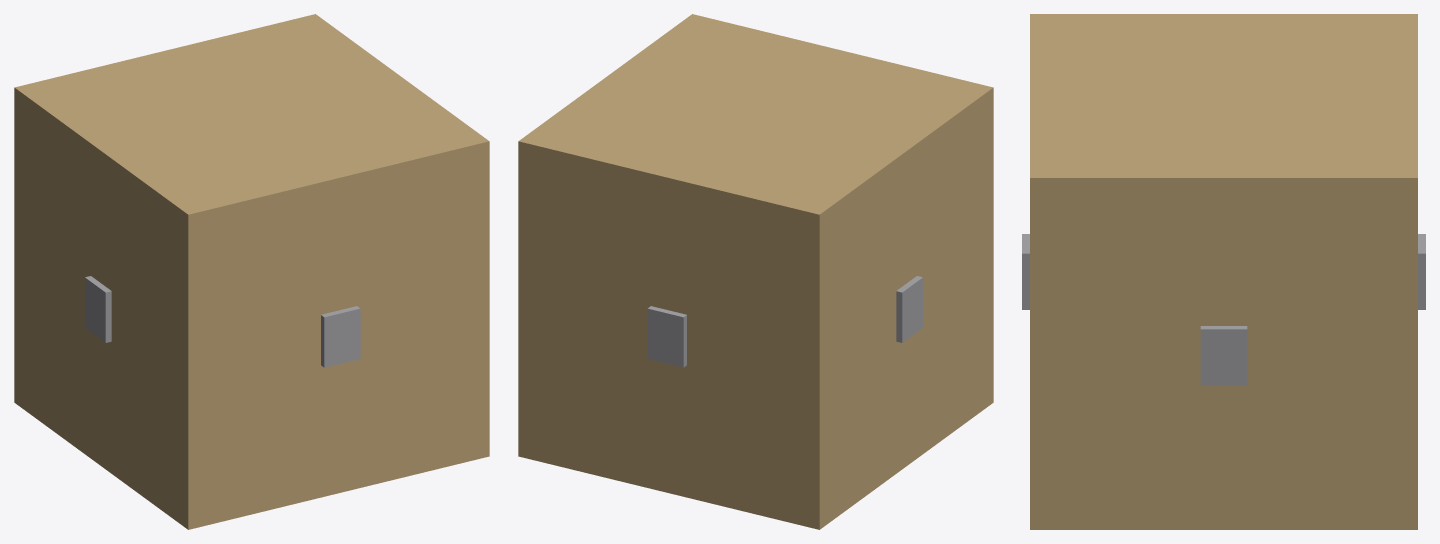
File: prop_crate.glb
The picture shows the model from 3 angles, left to right: view 1: azimuth 30°, elevation 25°; view 2: azimuth 150°, elevation 25°; view 3: azimuth 270°, elevation 25°; orthographic projection. The views are drawn at different scales.
Visible parts, largest first — view 1: Crate, Crate_Plank_1, Crate_Plank_0; view 2: Crate, Crate_Plank_1, Crate_Plank_0; view 3: Crate, Crate_Plank_0, Crate_Plank_1.
Boxes of the visible parts, left/top/right/bottom form: Crate: left=14, top=14, right=489, bottom=529; Crate_Plank_1: left=321, top=306, right=360, bottom=367; Crate_Plank_0: left=85, top=276, right=111, bottom=342; Crate: left=518, top=14, right=993, bottom=529; Crate_Plank_1: left=647, top=306, right=686, bottom=367; Crate_Plank_0: left=896, top=276, right=922, bottom=342; Crate: left=1030, top=14, right=1417, bottom=529; Crate_Plank_0: left=1200, top=326, right=1247, bottom=385; Crate_Plank_1: left=1022, top=234, right=1425, bottom=309.
Size of the model in its own units: 0.52 by 0.5 by 0.52.
